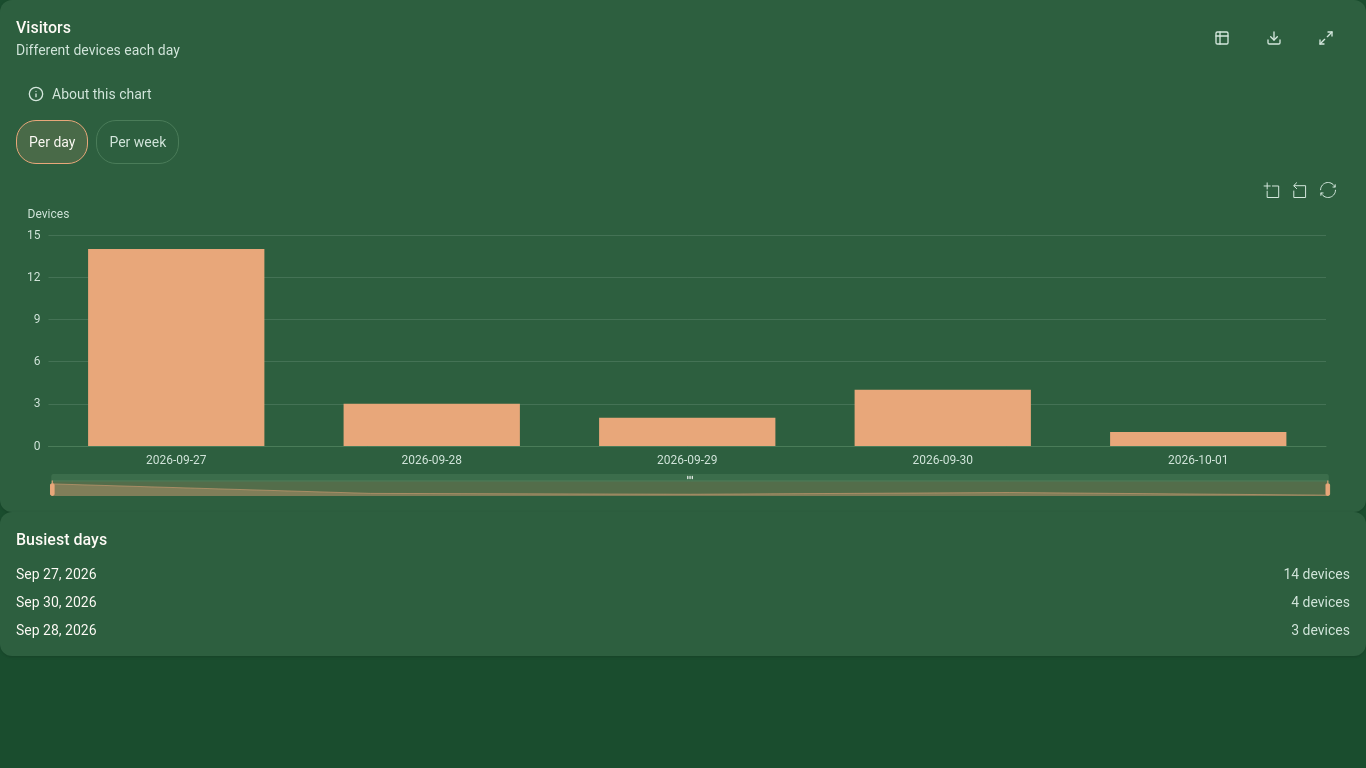
VisitorsCard › switches to weeks
expect the button named "Table" is shown: met, box [1198,16,1246,60]
Click the button "Per week" at (138, 142), box [96,120,179,164]
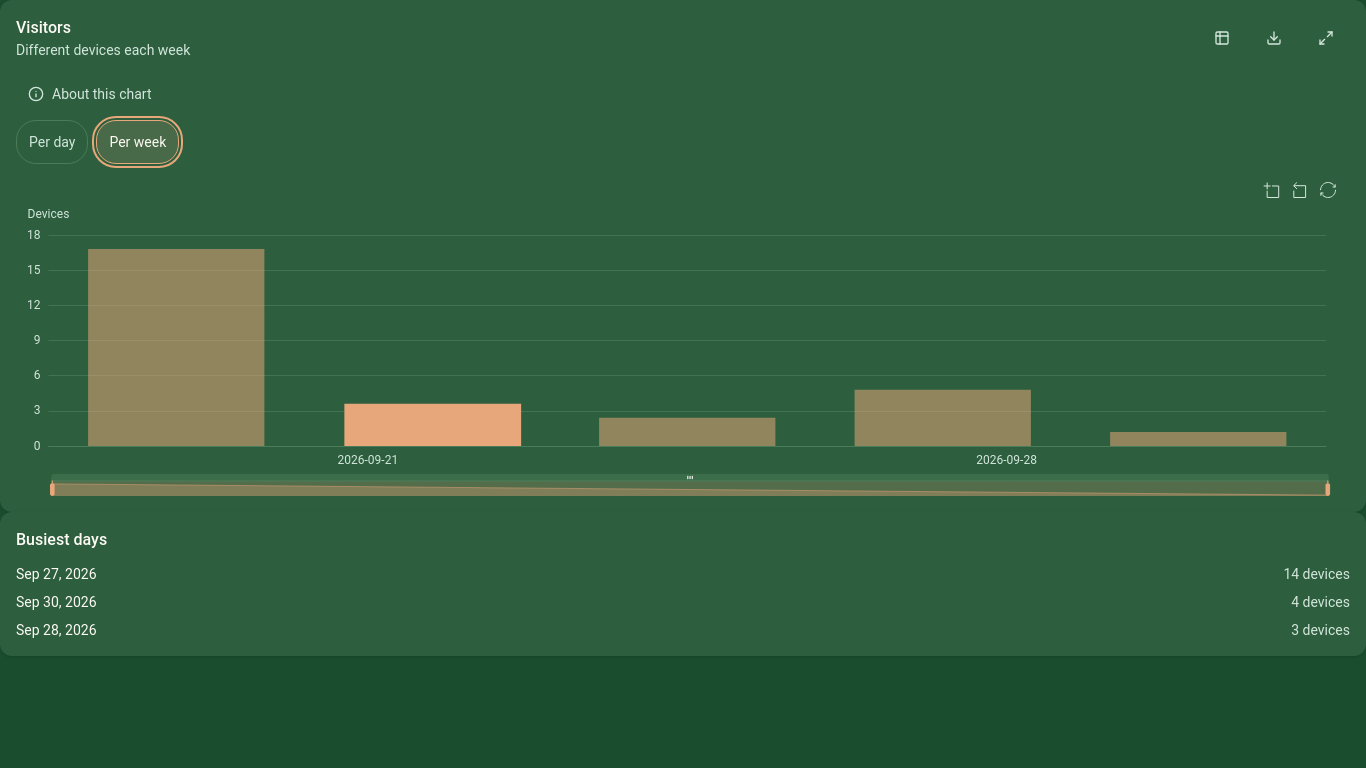
expect the button "Per week" is pressed: met, box [96,120,179,164]
Click the button named "Table" at (1222, 38), box [1198,16,1246,60]
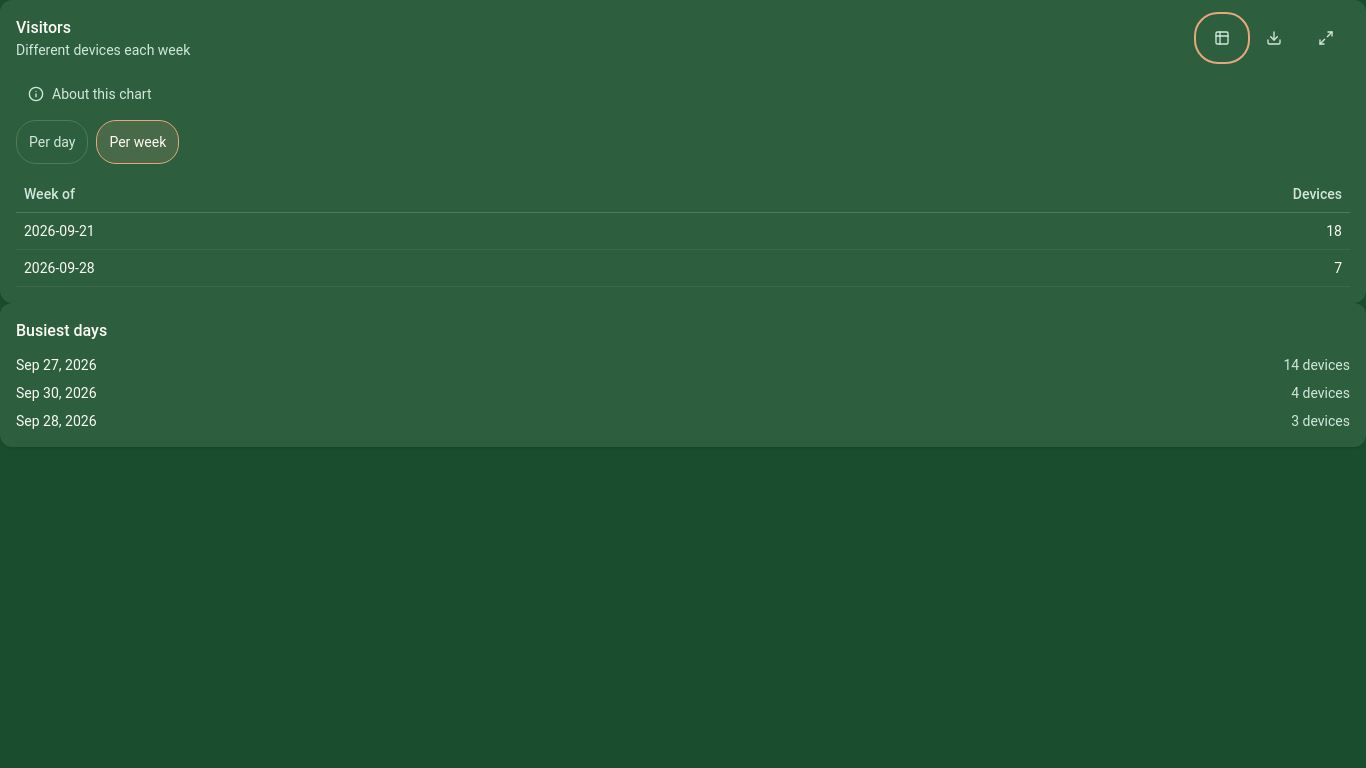
expect the column heading "Week of" is shown: met, box [16,176,778,212]
expect the number of rows is 3: met, box [16,176,1350,212]; [16,213,1350,250]; [16,250,1350,286]
